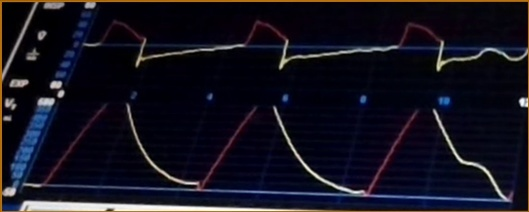Ineffective_effort Flow: (83, 9, 529, 77)
Ineffective_effort Volume: (27, 101, 514, 200)
